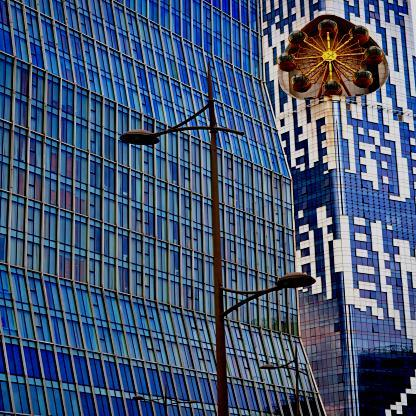light_pole: (120, 60, 230, 416)
